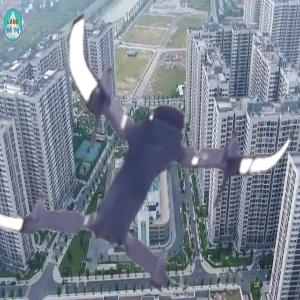drone: (6, 9, 291, 294)
